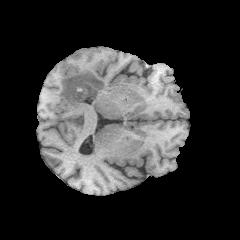glioma: (59, 70, 106, 107)
